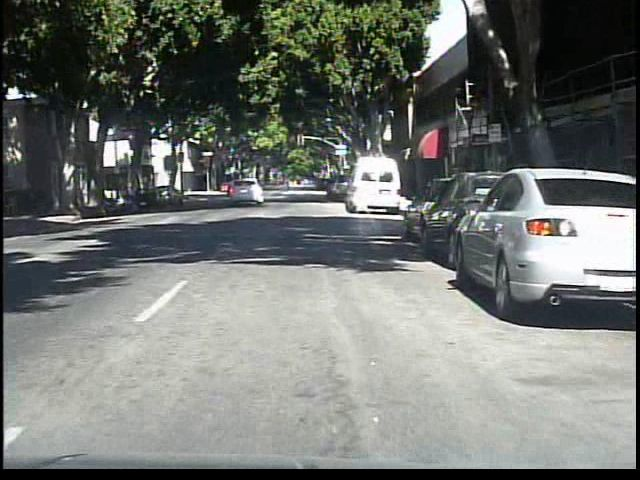person: (275, 167, 295, 200)
